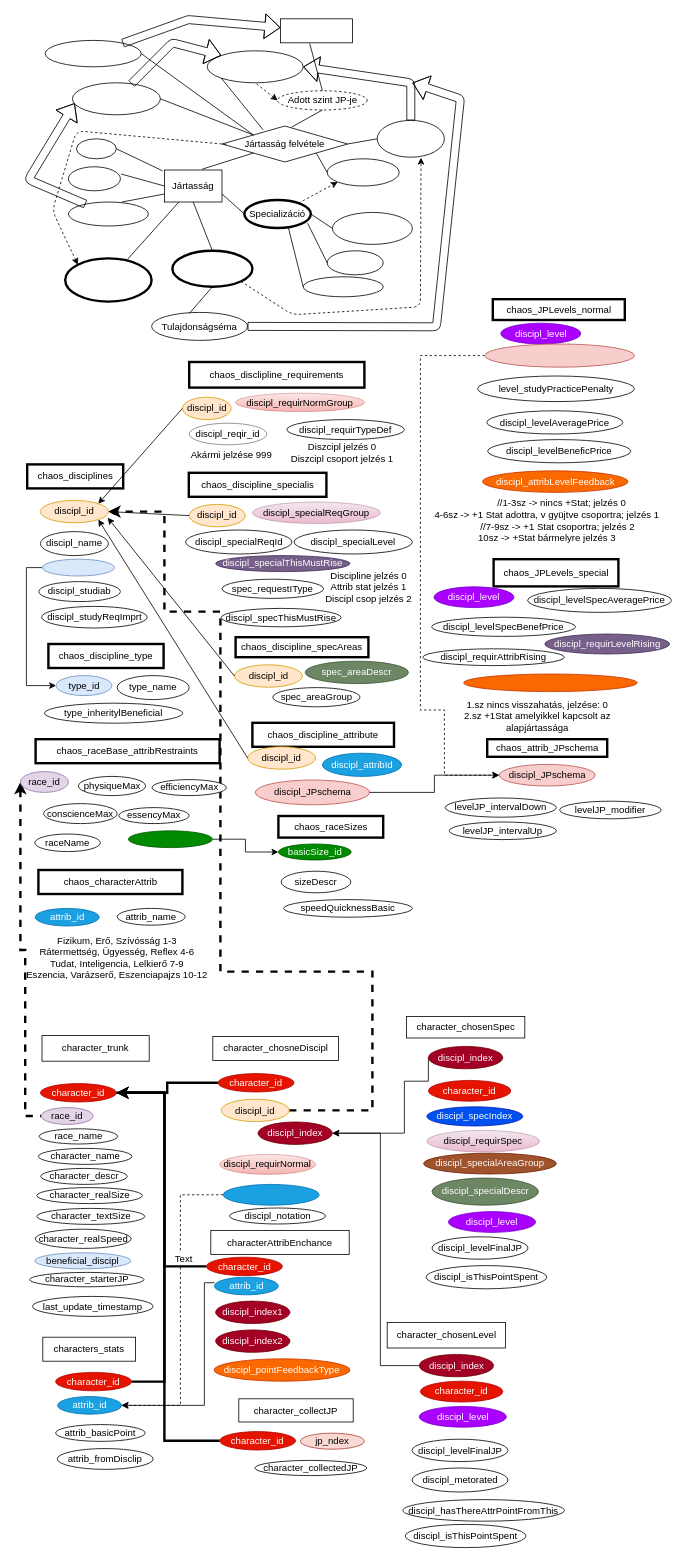
Image size: 686x1562. Some labels were removed from this diagram. Here are the shapes that lost their labels. From the top down, the centre of each, then its label:
At (316,30): "JP adott szintre".
At (92,53): "Előnyben részesített?".
At (254,66): "Tulajdonságból járó JP szorzó".
At (116,98): "Mentorálás volt-e?".
At (96,148): "Név".
At (410,138): "Kiválasztott tulajdonság".
At (94,178): "Csoport".
At (362,172): "Kiválasztott specializáció".
At (108,213): "Tanulhatósága".
At (372,228): "Jártasság területi jellege".
At (108,279): "Jártasság követelmény(ek)".
At (212,268): "Szükséges tulajdonság(ok)".
At (354,262): "Sorszáma".
At (342,286): "Szükséges szint".
At (559,355): "level_attribJPSchemaAdditioner".
At (78,567): "discipl_type".
At (550,682): "discipl_attribSpecLevelFeedback".
At (170,839): "basicSize".
At (270,1194): "discipl_chosenAttrib".
